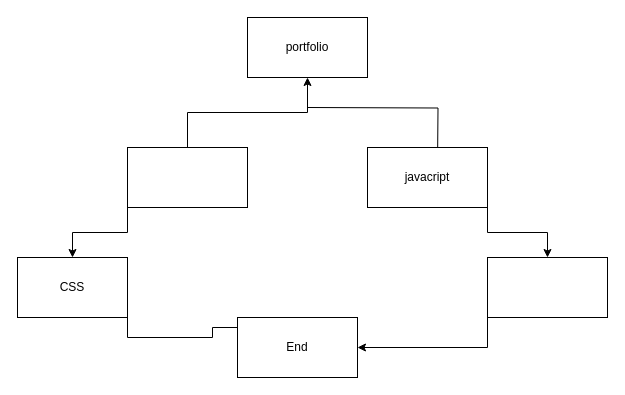
Some shapes in this 625 by 395 pixel diagram are drawn without their labels. Here are the shapes that lost their labels. From the top down, the box of each, then its label:
(126, 146, 248, 208): html
(486, 256, 608, 318): planning
